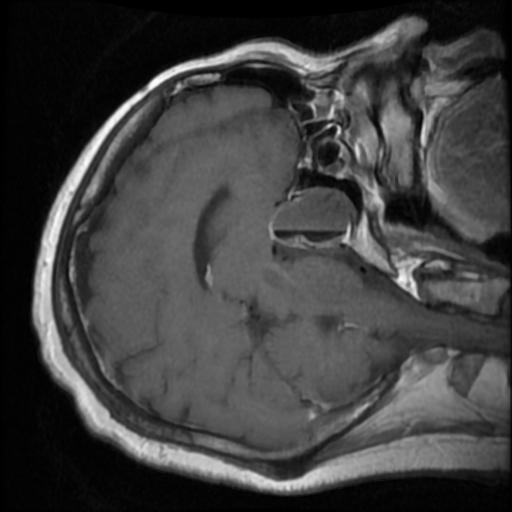pituitary tumour: (274, 188, 356, 233)
